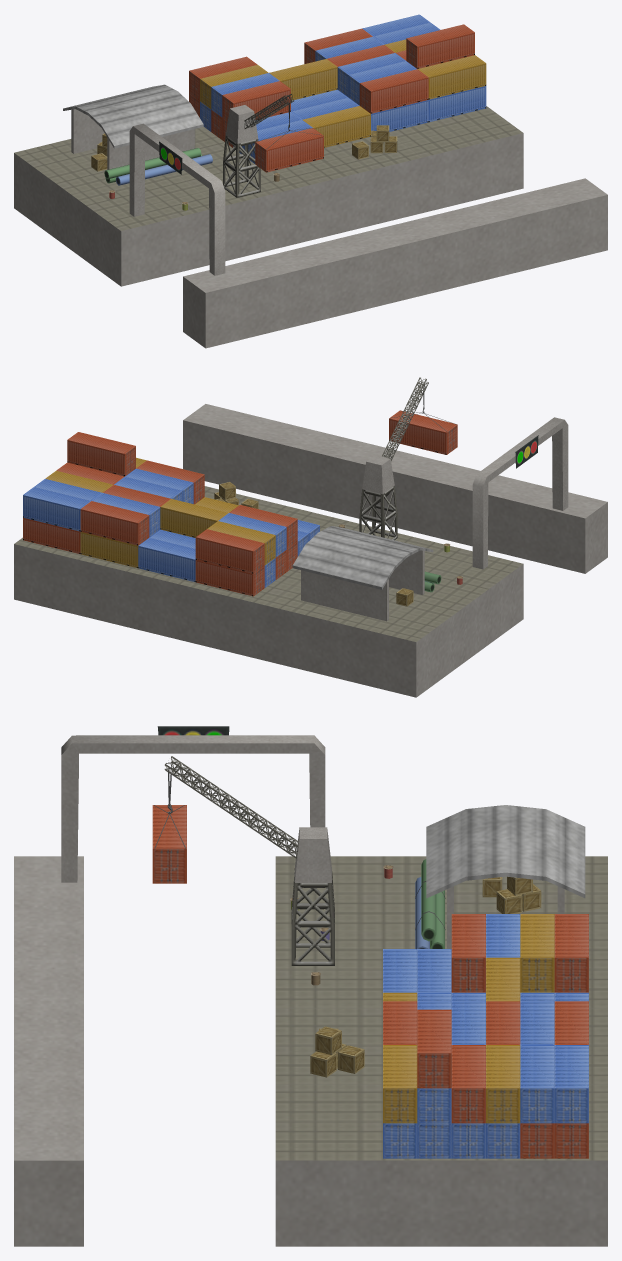
Rendered from Port.fbx.
The picture shows the model from 3 angles, top to bottom: view 1: azimuth 30°, elevation 25°; view 2: azimuth 150°, elevation 25°; view 3: azimuth 270°, elevation 25°; orthographic projection. The views are drawn at different scales.
Visible parts, largest first — view 1: Port, PortCrane; view 2: Port, PortCrane; view 3: Port, PortCrane.
Boxes of the visible parts, bbox=[...] form: Port: bbox=[14, 14, 607, 348]; PortCrane: bbox=[223, 94, 323, 197]; Port: bbox=[14, 404, 607, 697]; PortCrane: bbox=[359, 377, 457, 540]; Port: bbox=[14, 726, 607, 1246]; PortCrane: bbox=[152, 756, 334, 965].
Size of the model in its own units: 8861 by 3872 by 7309.
